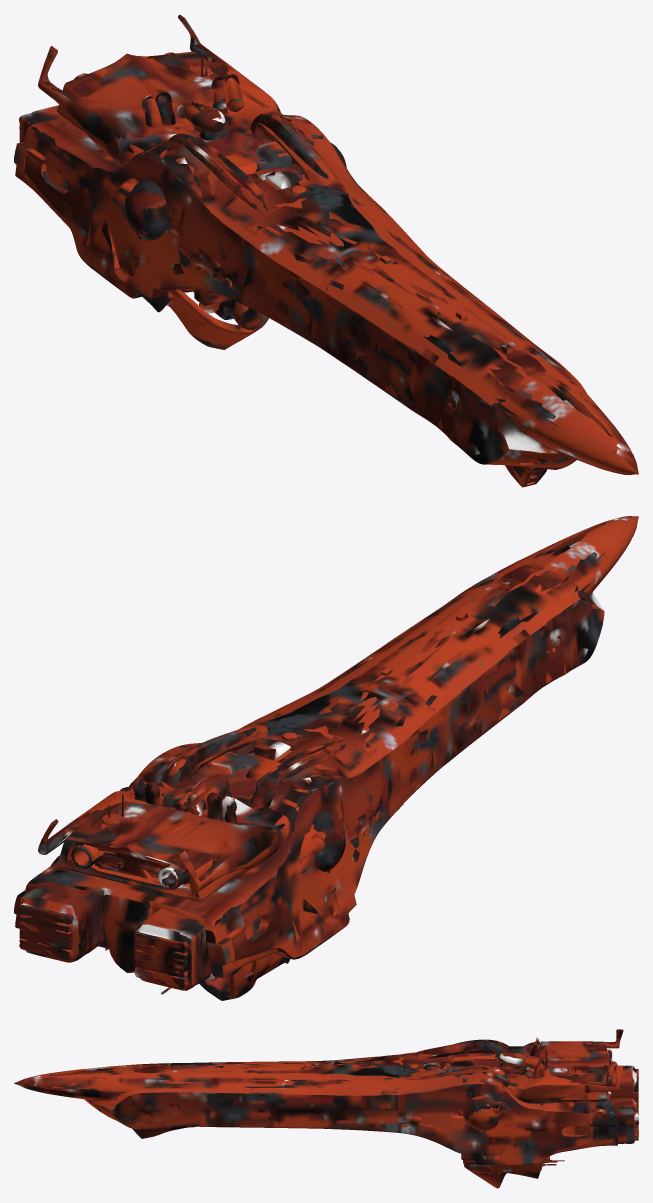
The model's file is flagship_barbarossa.glb.
3 views of the same model, one above another, from view 1: azimuth 30°, elevation 25°; view 2: azimuth 150°, elevation 25°; view 3: azimuth 270°, elevation 25° (orthographic). The views are drawn at different scales.
Visible parts, largest first — view 1: convert; view 2: convert; view 3: convert.
Boxes of the visible parts, <box> form: convert: <box>14,14,638,487</box>; convert: <box>14,516,638,1000</box>; convert: <box>14,1029,638,1188</box>.
Bounding box in the file's own units: 0.2763 × 0.2928 × 1.18.
Materials: 1 (1 with a texture image).
